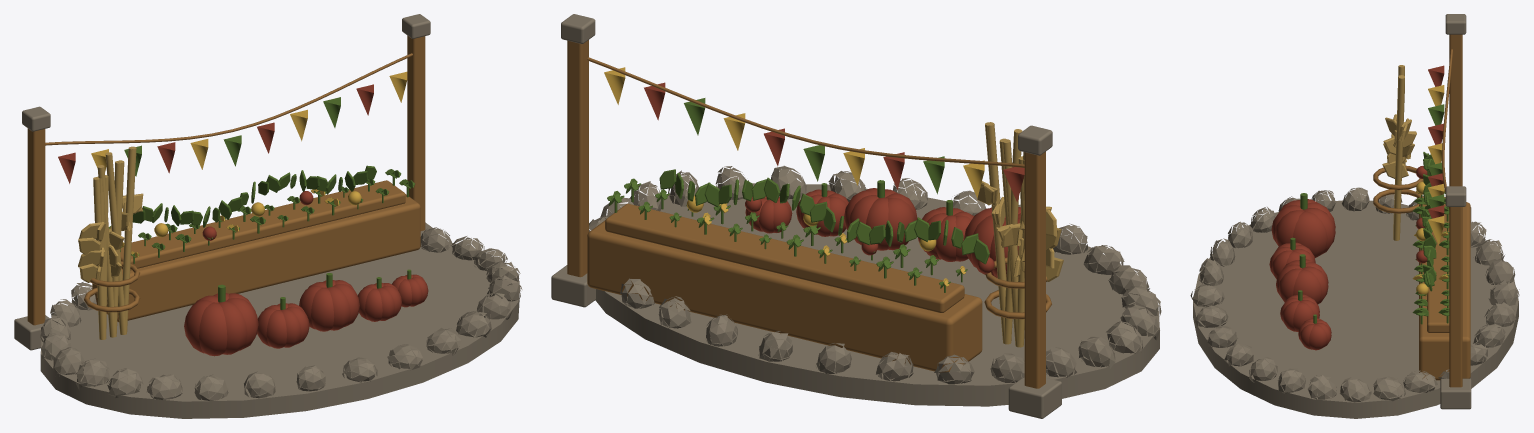
Rendered from seasonal-decorations.glb.
The picture shows the model from 3 angles, left to right: view 1: azimuth 30°, elevation 25°; view 2: azimuth 150°, elevation 25°; view 3: azimuth 270°, elevation 25°; orthographic projection. The views are drawn at different scales.
Parts seen in each view (by area): view 1: seasonal-decorations-farm-stone, seasonal-decorations-farm-wood-dark, seasonal-decorations-farm-barn-red, seasonal-decorations-farm-thatch, seasonal-decorations-farm-leaf, seasonal-decorations-farm-gold; view 2: seasonal-decorations-farm-stone, seasonal-decorations-farm-wood-dark, seasonal-decorations-farm-leaf, seasonal-decorations-farm-barn-red, seasonal-decorations-farm-thatch, seasonal-decorations-farm-gold; view 3: seasonal-decorations-farm-stone, seasonal-decorations-farm-wood-dark, seasonal-decorations-farm-barn-red, seasonal-decorations-farm-leaf, seasonal-decorations-farm-thatch, seasonal-decorations-farm-gold.
Boxes of the visible parts, bbox=[...] form: seasonal-decorations-farm-stone: bbox=[14, 14, 522, 418]; seasonal-decorations-farm-wood-dark: bbox=[27, 35, 425, 325]; seasonal-decorations-farm-barn-red: bbox=[58, 84, 428, 356]; seasonal-decorations-farm-thatch: bbox=[78, 146, 143, 339]; seasonal-decorations-farm-leaf: bbox=[109, 97, 415, 309]; seasonal-decorations-farm-gold: bbox=[91, 71, 407, 257]; seasonal-decorations-farm-stone: bbox=[551, 14, 1161, 418]; seasonal-decorations-farm-wood-dark: bbox=[567, 40, 1051, 388]; seasonal-decorations-farm-leaf: bbox=[607, 98, 989, 292]; seasonal-decorations-farm-barn-red: bbox=[644, 82, 1024, 277]; seasonal-decorations-farm-thatch: bbox=[977, 122, 1063, 347]; seasonal-decorations-farm-gold: bbox=[604, 67, 984, 286]; seasonal-decorations-farm-stone: bbox=[1190, 14, 1519, 418]; seasonal-decorations-farm-wood-dark: bbox=[1373, 34, 1470, 387]; seasonal-decorations-farm-barn-red: bbox=[1269, 65, 1444, 350]; seasonal-decorations-farm-leaf: bbox=[1290, 104, 1449, 324]; seasonal-decorations-farm-thatch: bbox=[1382, 65, 1416, 240]; seasonal-decorations-farm-gold: bbox=[1412, 85, 1448, 296].
Size of the model in its own units: 6.52 by 3.18 by 4.45.
